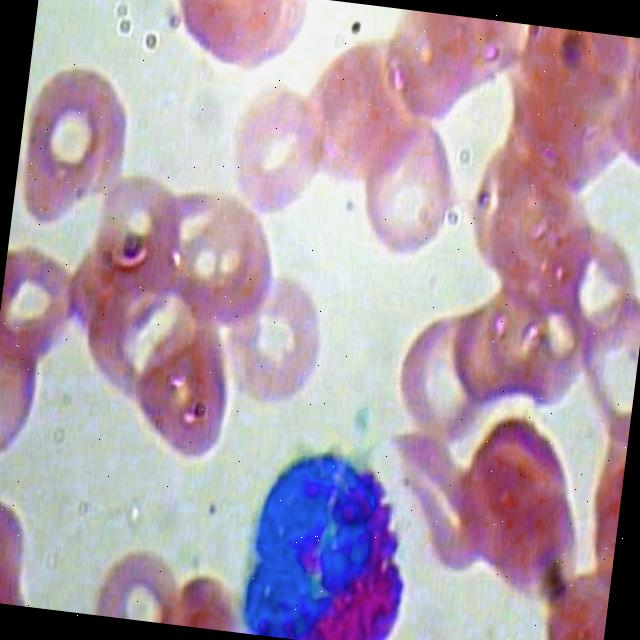RBC: (443, 412, 592, 612), (286, 26, 434, 211), (122, 302, 255, 486), (9, 57, 133, 241), (366, 416, 506, 578), (216, 74, 341, 228), (163, 191, 288, 345), (344, 116, 468, 270), (384, 297, 509, 448), (216, 268, 328, 413), (548, 224, 640, 380), (87, 170, 187, 302), (559, 292, 640, 445), (0, 240, 84, 371), (0, 317, 62, 491), (156, 0, 289, 80), (78, 540, 192, 626), (445, 304, 524, 412), (590, 33, 640, 193), (531, 544, 614, 640), (155, 560, 246, 632)
WBC: (220, 427, 427, 640)
